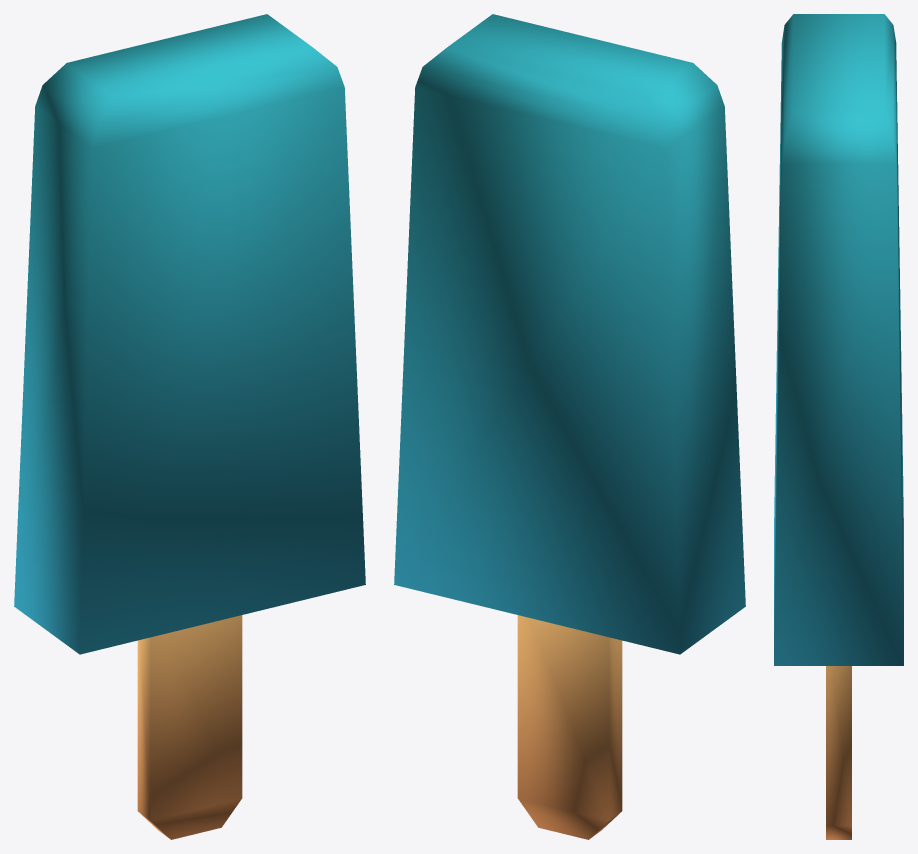
File: IceCream04Var1.fbx
The picture shows the model from 3 angles, left to right: view 1: azimuth 30°, elevation 25°; view 2: azimuth 150°, elevation 25°; view 3: azimuth 270°, elevation 25°; orthographic projection.
Visible parts, largest first — view 1: IceCreamVar4a; view 2: IceCreamVar4a; view 3: IceCreamVar4a.
Boxes of the visible parts, x1=… form: IceCreamVar4a: x1=14, y1=14, x2=365, y2=839; IceCreamVar4a: x1=394, y1=14, x2=745, y2=839; IceCreamVar4a: x1=774, y1=14, x2=903, y2=839.
Size of the model in its own units: 0.0747 by 0.0297 by 0.193.
